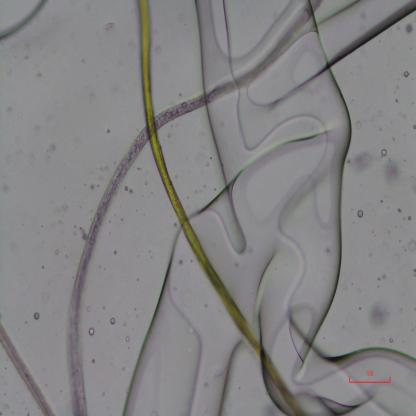Air bubble: (0, 0, 49, 46)
Background material: (226, 0, 416, 416), (114, 281, 249, 416), (314, 0, 416, 72), (348, 146, 376, 174), (383, 155, 402, 188), (372, 296, 392, 327), (70, 223, 86, 240), (103, 20, 117, 31), (123, 184, 136, 195), (406, 240, 416, 252), (85, 326, 96, 336), (404, 22, 413, 32), (356, 208, 364, 218), (356, 119, 363, 129), (34, 312, 41, 321), (110, 316, 115, 325), (377, 110, 382, 119), (382, 150, 388, 157), (396, 206, 402, 213), (125, 334, 130, 342), (90, 358, 96, 364), (407, 214, 412, 221), (55, 248, 59, 256), (404, 70, 408, 78), (86, 304, 90, 312), (113, 249, 118, 255), (178, 258, 183, 264), (173, 221, 178, 226), (412, 123, 416, 129), (120, 216, 124, 222), (41, 264, 45, 269), (378, 127, 382, 132), (122, 321, 126, 326), (387, 229, 390, 234), (190, 258, 193, 263), (395, 98, 398, 103), (380, 199, 384, 202), (104, 305, 106, 309), (378, 277, 380, 280), (137, 278, 139, 280)
Microfibre: (67, 0, 325, 416), (137, 0, 296, 410), (0, 323, 55, 416)
